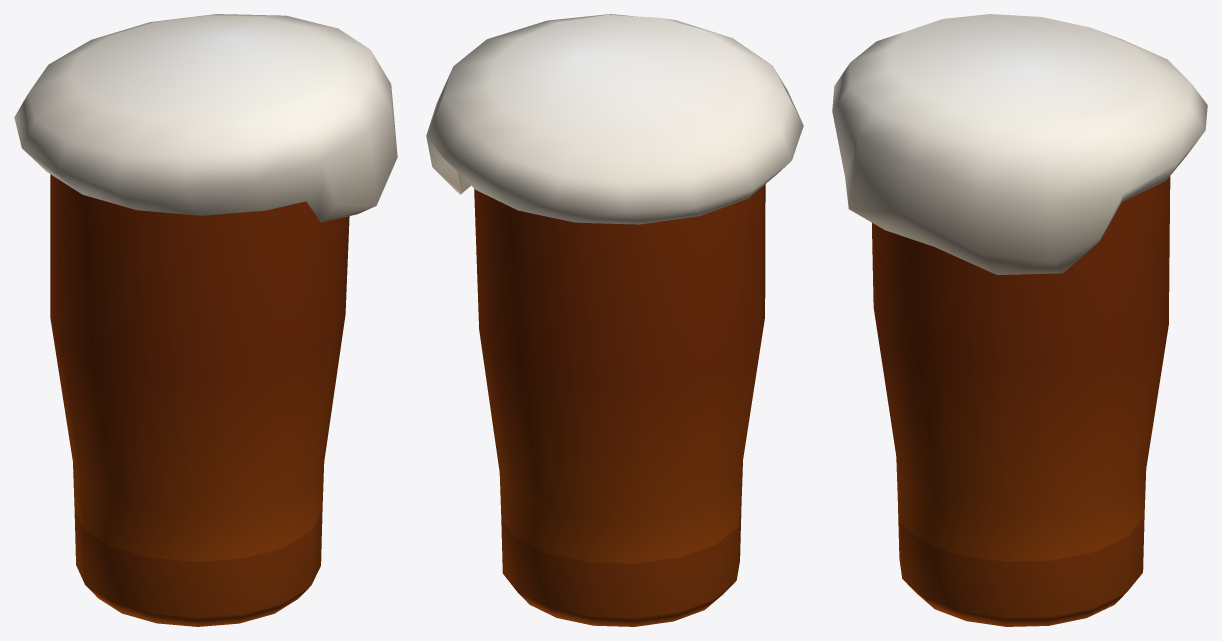
Rendered from BeerGlass_Filled.fbx.
3 views of the same model, side by side, from view 1: azimuth 30°, elevation 25°; view 2: azimuth 150°, elevation 25°; view 3: azimuth 270°, elevation 25° (orthographic). The views are drawn at different scales.
Parts seen in each view (by area): view 1: BeerGlass_Filled; view 2: BeerGlass_Filled; view 3: BeerGlass_Filled.
Part boxes in pixels (bbox=[...]): BeerGlass_Filled: bbox=[14, 14, 397, 626]; BeerGlass_Filled: bbox=[426, 14, 803, 626]; BeerGlass_Filled: bbox=[832, 14, 1207, 626].
Size of the model in its own units: 53.82 by 82.88 by 52.64.
